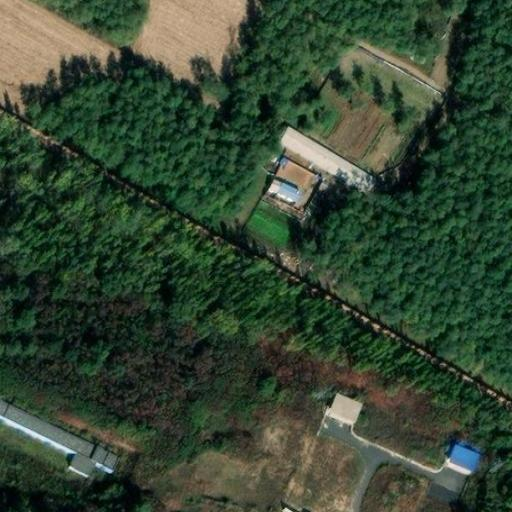building: (276, 130, 369, 192), (424, 476, 464, 507), (445, 448, 478, 476), (263, 182, 294, 208), (325, 401, 354, 427)
